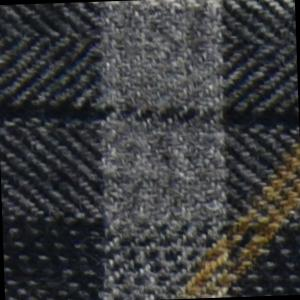Oil Stain: (167, 143, 300, 300)
